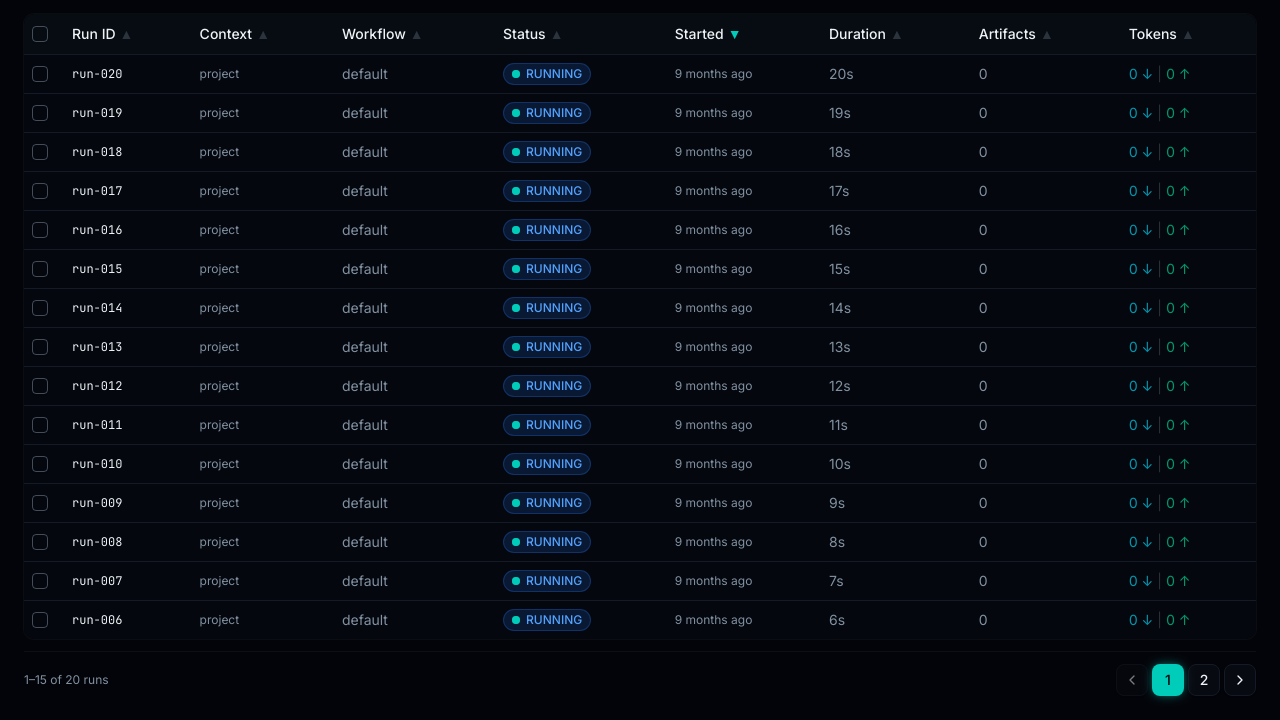
Test: RunListPage - pagination › navigates to the second page when clicking next
The width and height of the screenshot is (1280, 720).
(page scrolled)
Note: Click next page
What coordinates should you click on to do the following:
click the button named "Next page"
I would click on:
 (1240, 680)
Its box is x1=1224 y1=664 x2=1256 y2=696.
(page scrolled)
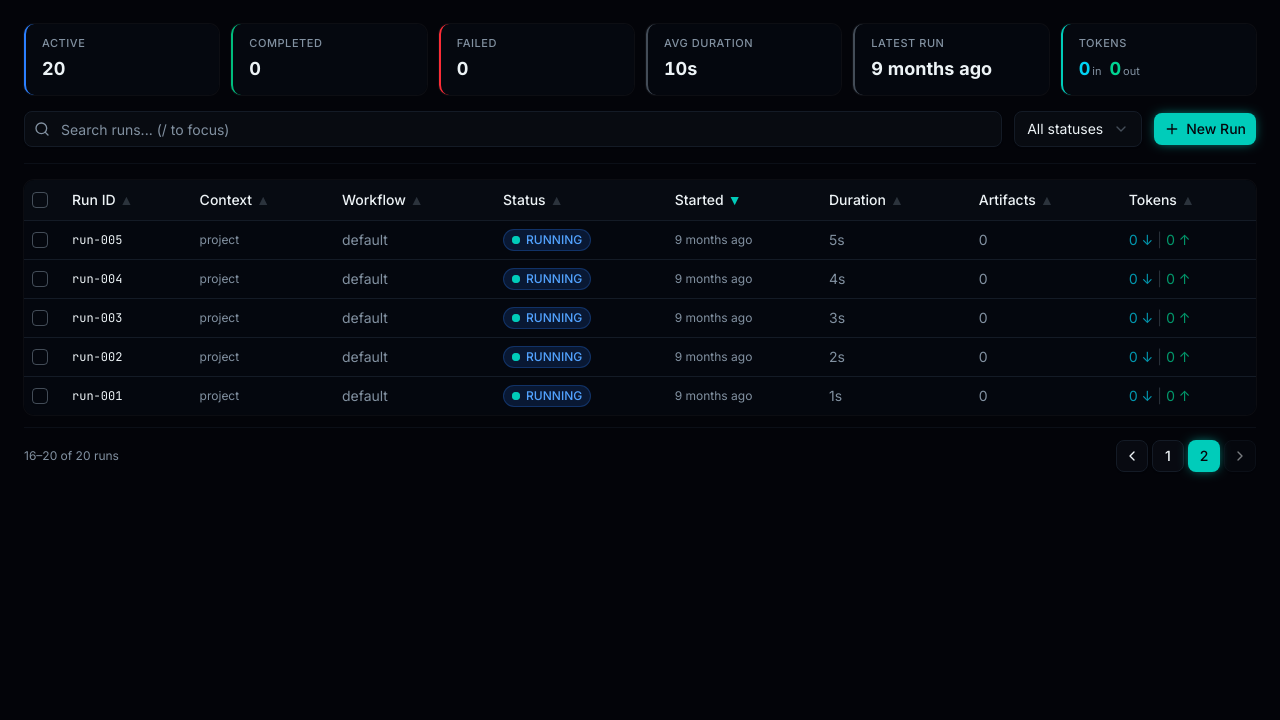
Expected: the text "16–20 of 20 runs" is shown, x1=24 y1=448 x2=119 y2=464
Expected: the button named "Next page" is disabled, x1=1224 y1=440 x2=1256 y2=472
Expected: the button named "Previous page" is enabled, x1=1116 y1=440 x2=1148 y2=472
